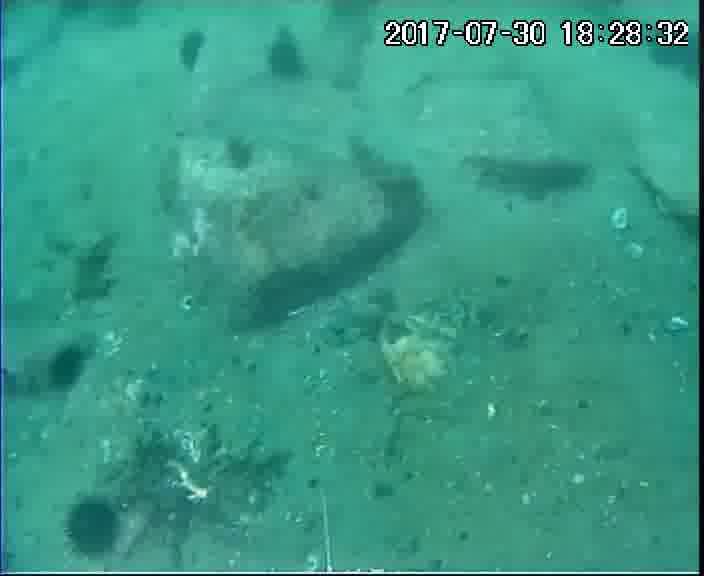echinus: (64, 495, 123, 561), (646, 24, 701, 73), (265, 30, 309, 81), (46, 344, 89, 393), (183, 31, 208, 76)
